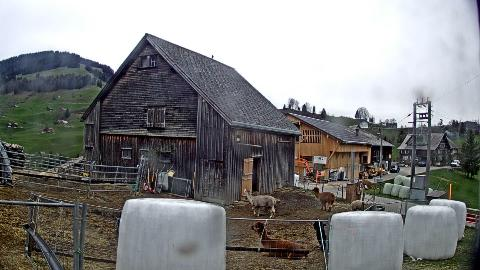car: (390, 166, 400, 172), (451, 160, 461, 166), (418, 162, 426, 166)
sheep: (251, 220, 309, 260), (243, 188, 277, 219), (313, 187, 336, 211), (313, 220, 329, 252), (352, 200, 376, 212), (40, 170, 60, 178)
